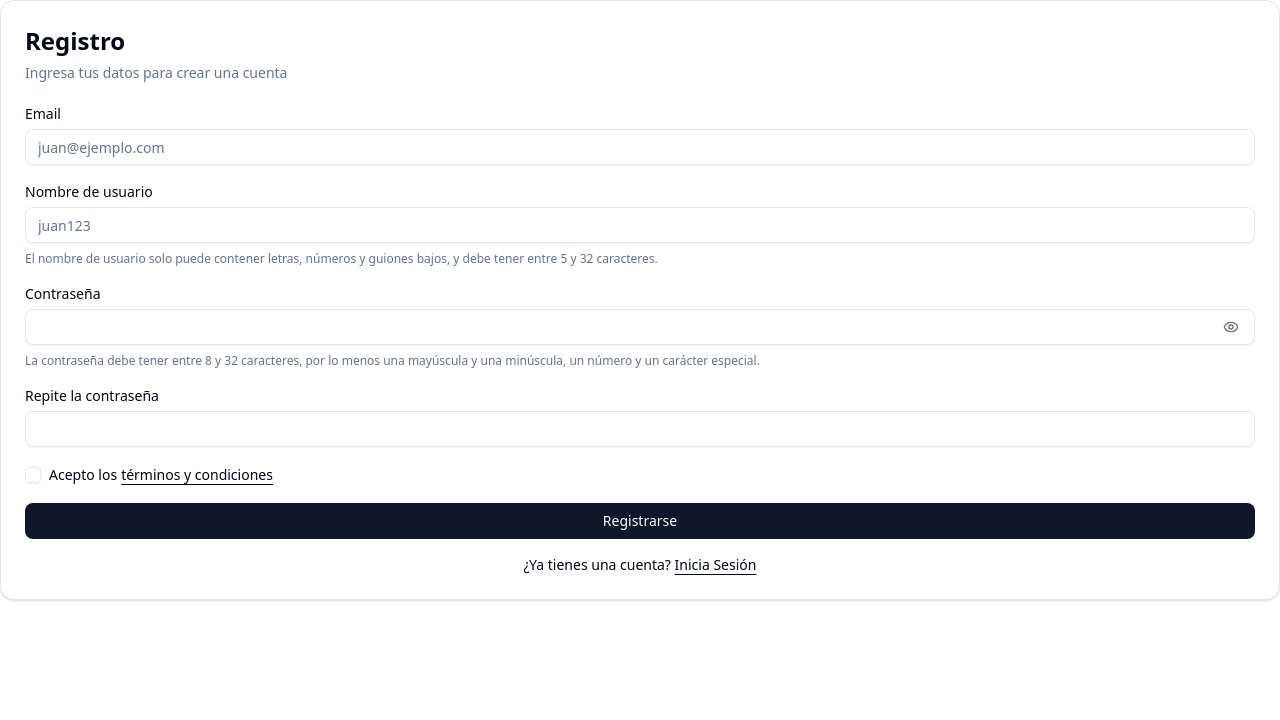
RegisterForm › muestra errores del backend
Step 1. Type "test@example.com" into the field labelled "Email" → (640,147), box [25,129,1255,165]
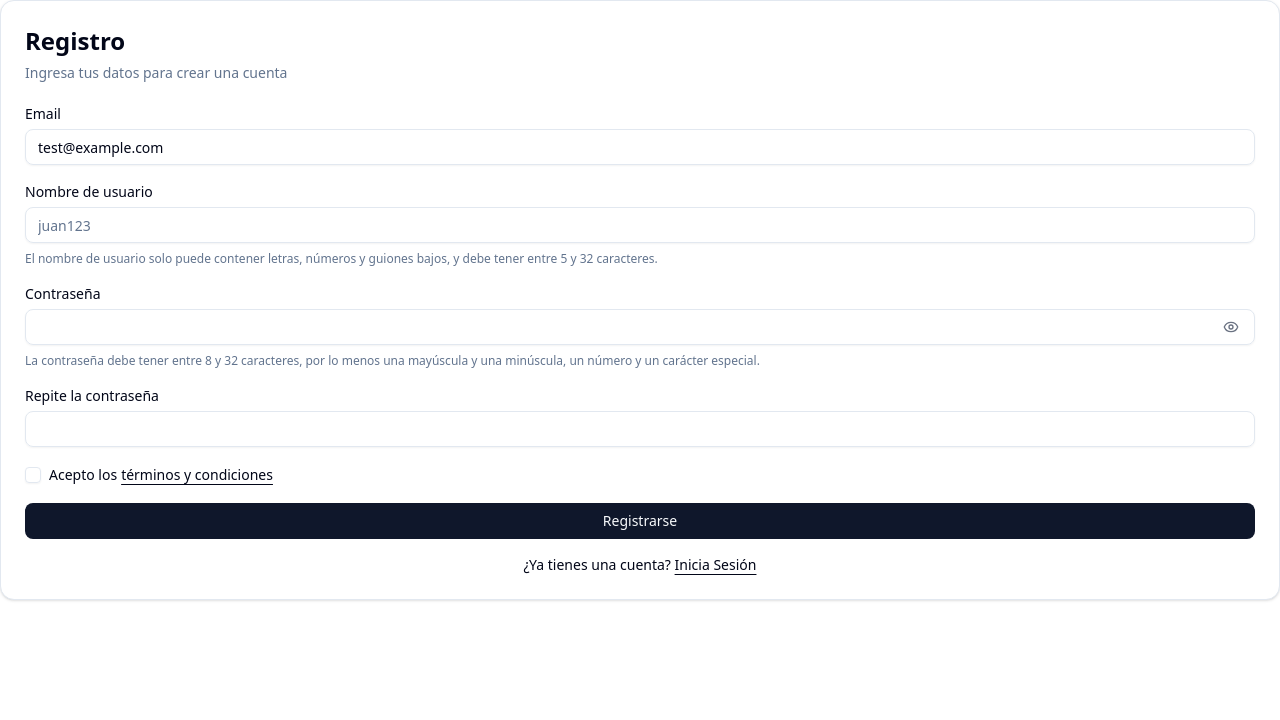
Step 2. Type "usuario123" into the field labelled "Nombre de usuario" → (640,225), box [25,207,1255,243]
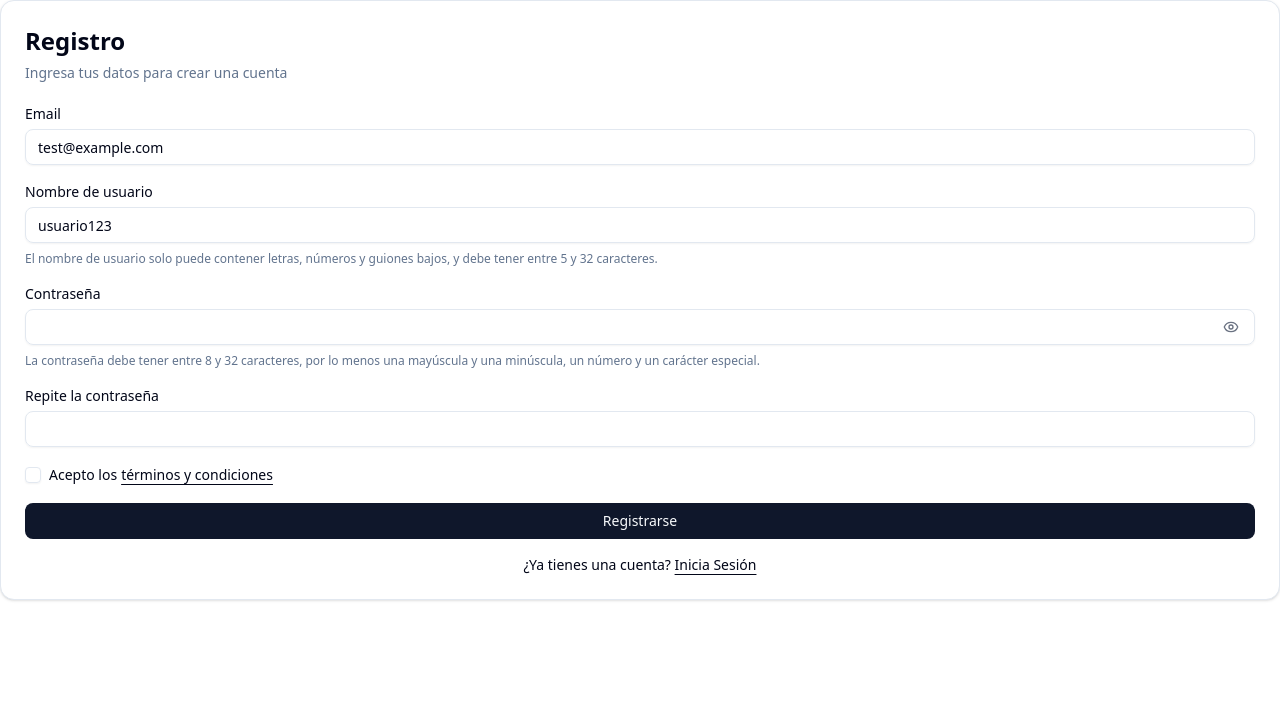
Step 3. Type "Password1!" into the password field labelled "Contraseña" → (640,327), box [25,309,1255,345]
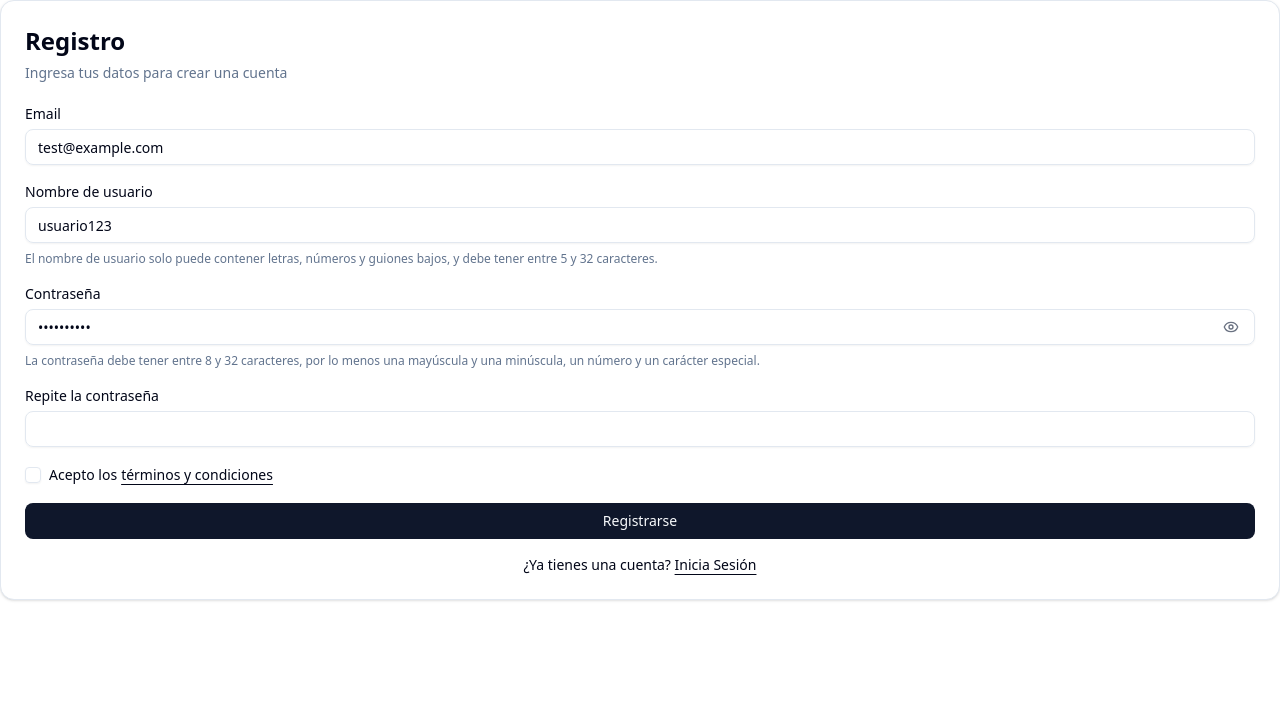
Step 4. Type "Password1!" into the password field labelled "Repite la contraseña" → (640,429), box [25,411,1255,447]
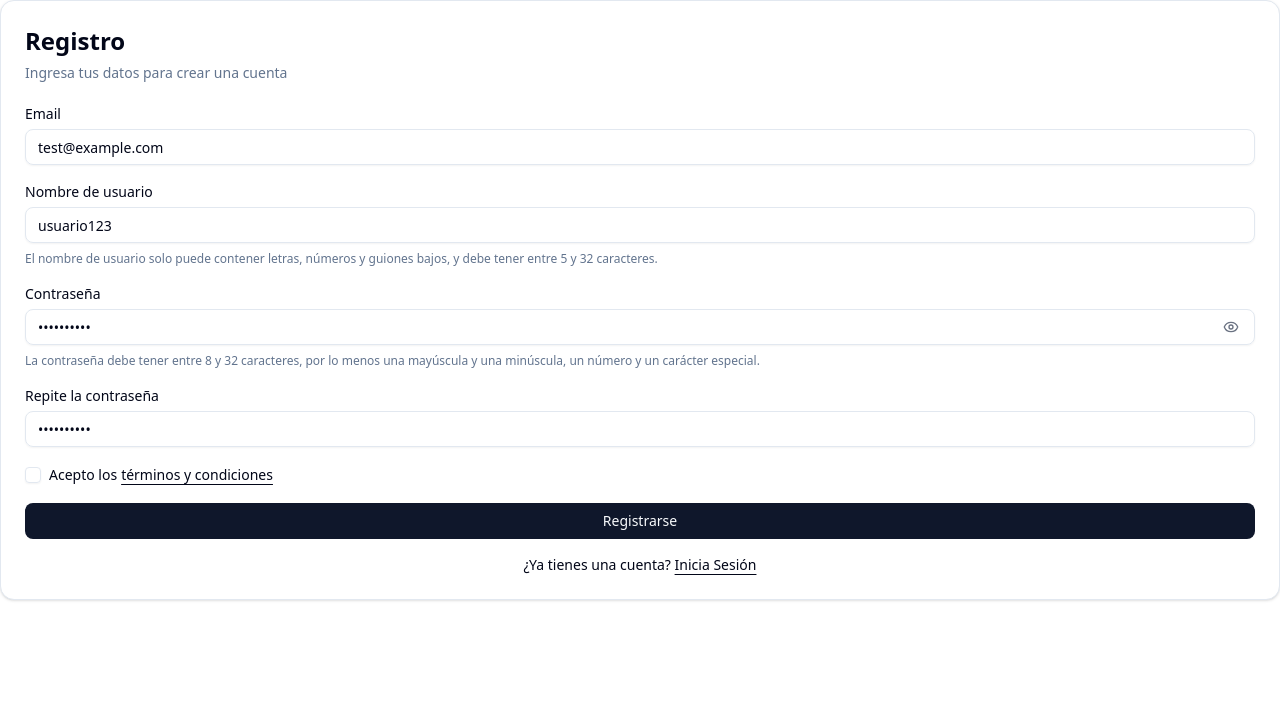
Step 5. Click the checkbox named "acepto los" → (33,475), box [25,467,41,483]
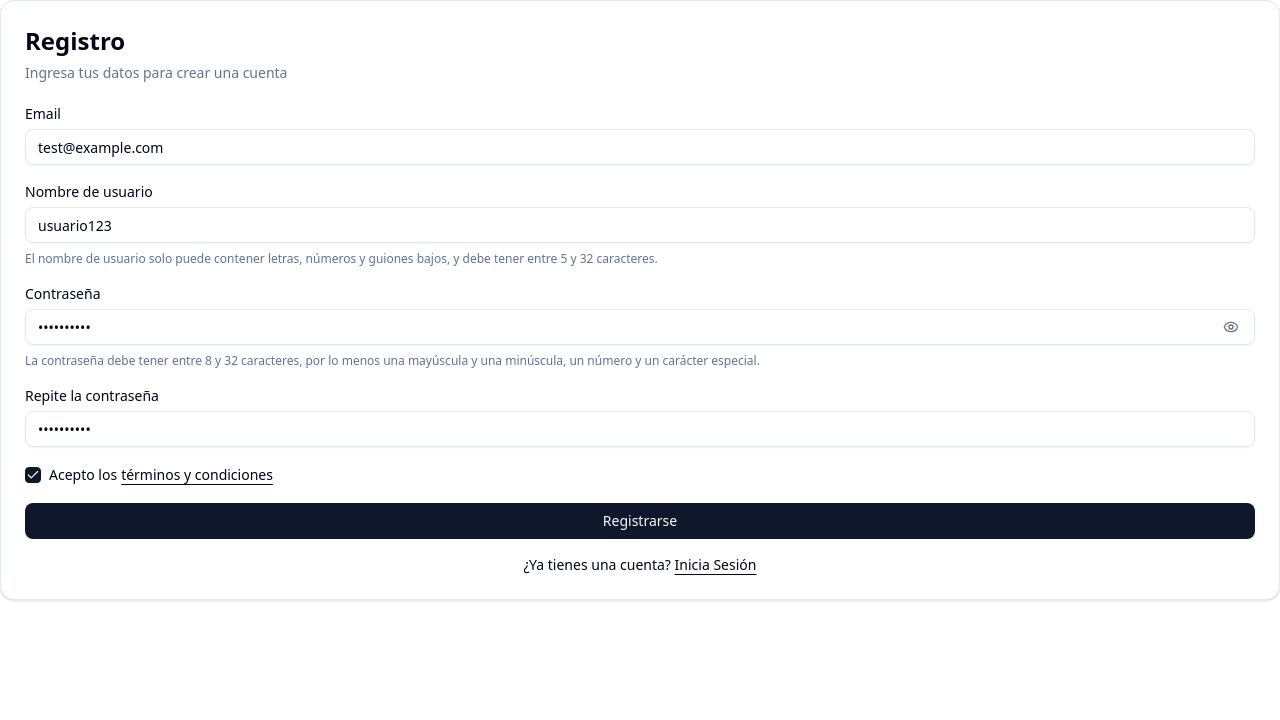
Step 6. Click the button "Registrarse" → (640,521), box [25,503,1255,539]
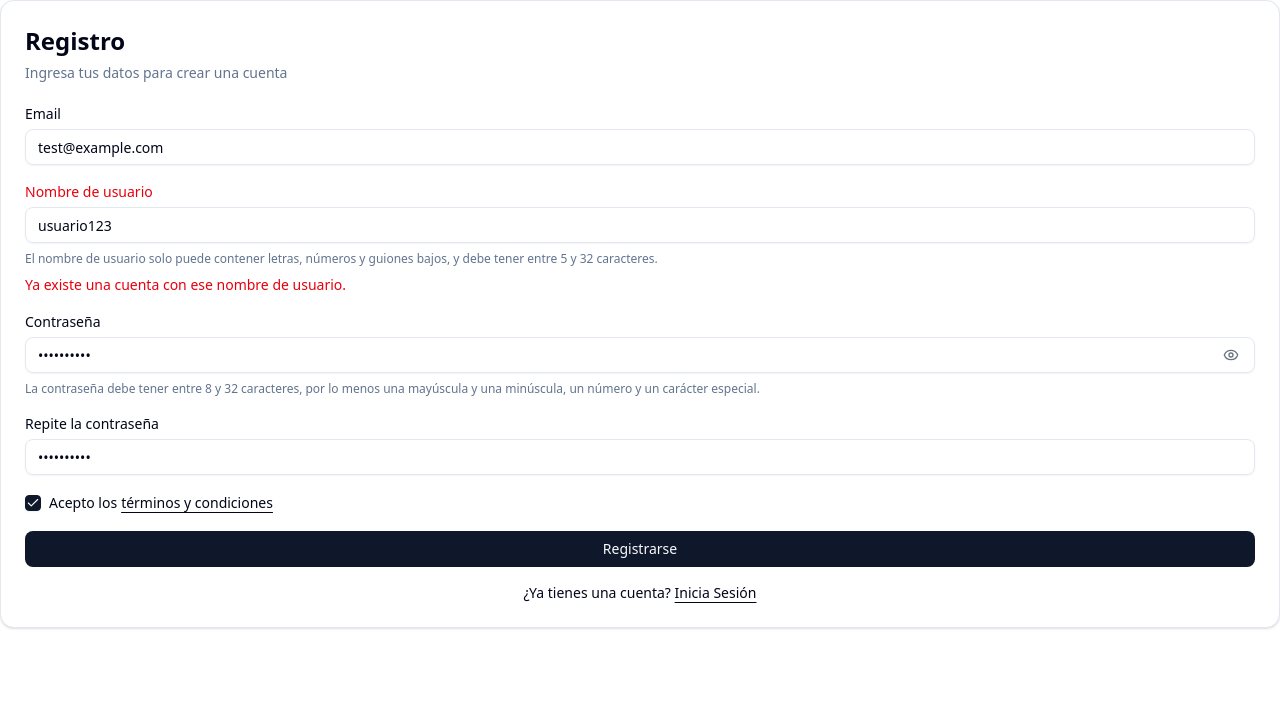
Now the text "Ya existe una cuenta con ese nombre de usuario." is shown, box [25,275,346,294]
